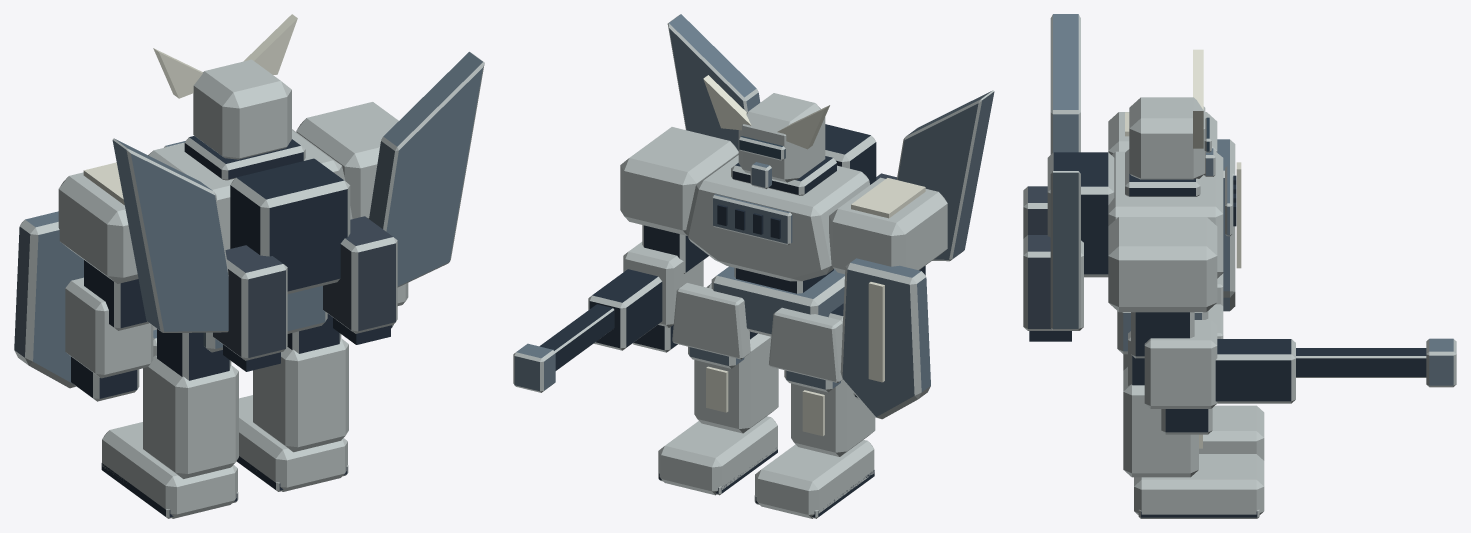
The model's file is blue_line.glb.
The picture shows the model from 3 angles, left to right: view 1: azimuth 30°, elevation 25°; view 2: azimuth 150°, elevation 25°; view 3: azimuth 270°, elevation 25°; orthographic projection. The views are drawn at different scales.
Parts seen in each view (by area): view 1: R_FlightFin, L_FlightFin, Backpack, L_Shin, R_Shin, Shield, Helmet, R_Thruster, L_Thruster, L_Foot, L_Shoulder, R_Shoulder (+15 smaller); view 2: Chest, Shield, L_FlightFin, R_Shoulder, L_Shoulder, R_Foot, L_Foot, R_FlightFin, R_Shin, R_HipSkirt, L_HipSkirt, Helmet (+21 smaller); view 3: R_Shoulder, R_Foot, Helmet, R_Forearm, RifleReceiver, R_FlightFin, R_Shin, Backpack, L_FlightFin, Chest, RifleBarrel, R_Thruster (+14 smaller).
Boxes of the visible parts, x1,y1,x2,y2 form: R_FlightFin: (369, 51, 484, 287); L_FlightFin: (112, 138, 228, 332); Backpack: (230, 158, 350, 293); L_Shin: (143, 355, 238, 478); R_Shin: (253, 338, 348, 452); Shield: (14, 211, 83, 388); Helmet: (193, 59, 291, 159); R_Thruster: (323, 216, 397, 333); L_Thruster: (213, 245, 287, 360); L_Foot: (102, 422, 237, 518); L_Shoulder: (58, 172, 138, 283); R_Shoulder: (296, 102, 398, 218); Chest: (686, 154, 869, 281); Shield: (840, 258, 930, 419); L_FlightFin: (896, 90, 994, 261); R_Shoulder: (620, 127, 738, 235); L_Shoulder: (829, 177, 947, 274); R_Foot: (658, 416, 777, 495); L_Foot: (755, 440, 874, 518); R_FlightFin: (667, 14, 760, 150); R_Shin: (694, 333, 778, 433); R_HipSkirt: (672, 283, 750, 359); L_HipSkirt: (769, 307, 842, 382); Helmet: (738, 93, 825, 182); R_Shoulder: (1108, 217, 1217, 312); R_Foot: (1134, 454, 1264, 514); Helmet: (1129, 97, 1205, 179); R_Forearm: (1144, 320, 1217, 408); RifleReceiver: (1215, 339, 1295, 403); R_FlightFin: (1050, 171, 1080, 330); R_Shin: (1123, 367, 1198, 477); Backpack: (1047, 152, 1114, 277); L_FlightFin: (1050, 14, 1080, 154); Chest: (1108, 151, 1223, 278); RifleBarrel: (1296, 348, 1426, 377); R_Thruster: (1023, 235, 1083, 330).
Size of the model in its own units: 1.29 by 1.46 by 1.43.
